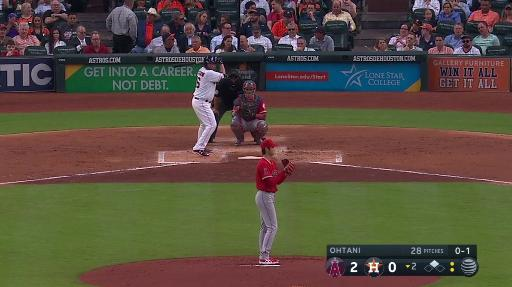pitcher: (256, 138, 294, 266)
